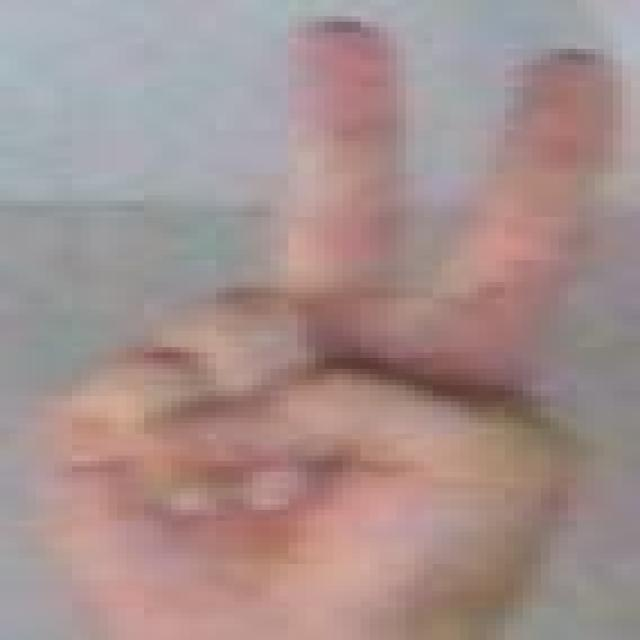V: (23, 3, 640, 620)
